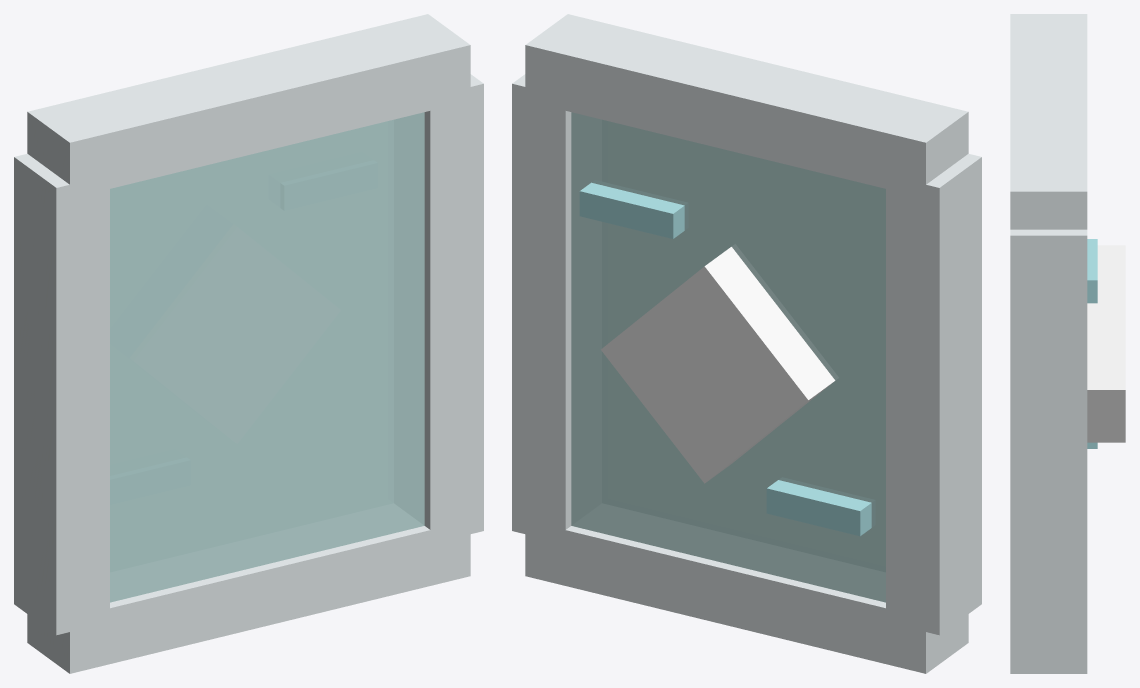
File: AirShield.fbx
3 views of the same model, side by side, from view 1: azimuth 30°, elevation 25°; view 2: azimuth 150°, elevation 25°; view 3: azimuth 270°, elevation 25° (orthographic). The views are drawn at different scales.
Parts seen in each view (by area): view 1: Shield_Plate, Shield_Rim.003, Shield_Rim, Shield_Rim.002, Shield_Rim.001; view 2: Shield_Plate, Shield_Rim.003, Shield_Rim, Shield_Boss, Shield_Rim.002, Shield_Rim.001, Shield_Swirl.001, Shield_Swirl; view 3: Shield_Rim.002, Shield_Rim, Shield_Boss, Shield_Rim.001, Shield_Swirl.
Boxes of the visible parts, x1,y1,x2,y2 form: Shield_Plate: [110, 112, 424, 602]; Shield_Rim.003: [14, 153, 109, 635]; Shield_Rim: [27, 14, 470, 198]; Shield_Rim.002: [424, 74, 483, 543]; Shield_Rim.001: [27, 526, 470, 673]; Shield_Plate: [571, 112, 885, 602]; Shield_Rim.003: [886, 153, 981, 635]; Shield_Rim: [525, 14, 968, 188]; Shield_Boss: [601, 247, 835, 483]; Shield_Rim.002: [512, 74, 571, 533]; Shield_Rim.001: [525, 520, 968, 673]; Shield_Swirl.001: [766, 480, 871, 536]; Shield_Swirl: [579, 182, 684, 238]; Shield_Rim.002: [1010, 229, 1087, 641]; Shield_Rim: [1010, 14, 1087, 229]; Shield_Boss: [1087, 245, 1125, 442]; Shield_Rim.001: [1010, 642, 1087, 673]; Shield_Swirl: [1087, 239, 1097, 303].
Bounding box in the file's own units: 89.6 × 106 × 23.1.
